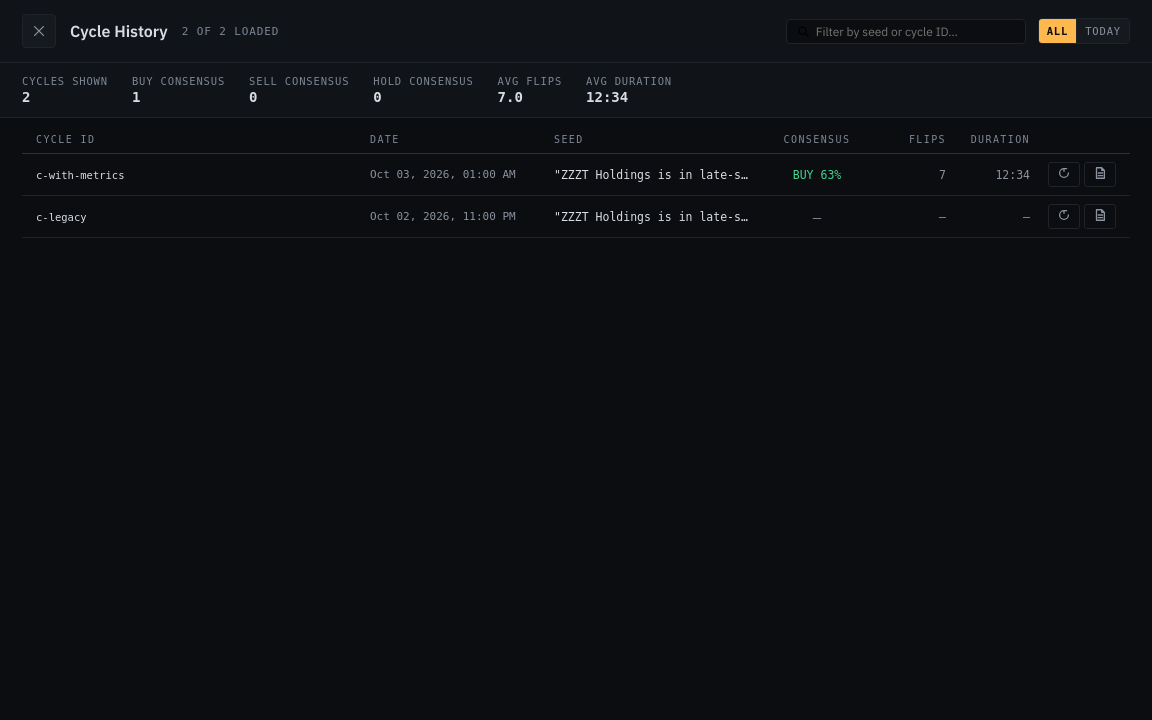
Test: CycleBrowser › filters Today by the local calendar day
Expected: the button "c-with-metrics" is shown, [36,168,356,180]
Click the button "Today" at (1103, 31), box [1077,19,1129,43]
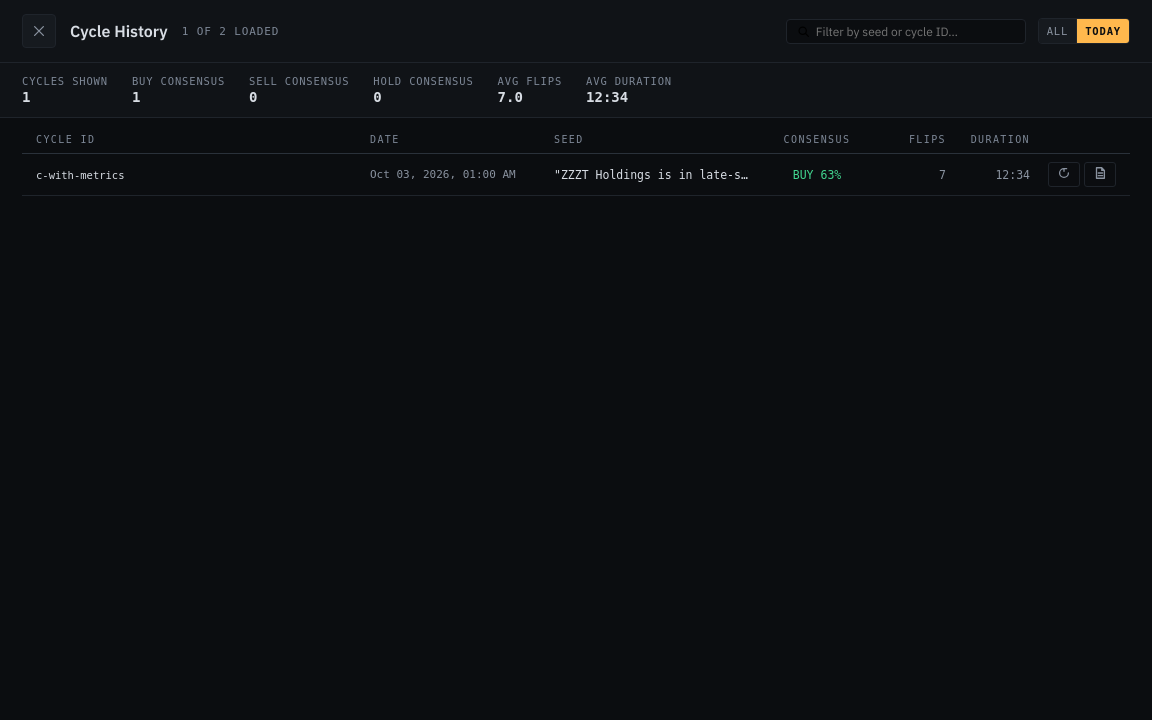
Expected: the button "c-with-metrics" is shown, [36,168,356,180]
Expected: the button "c-legacy" is gone
